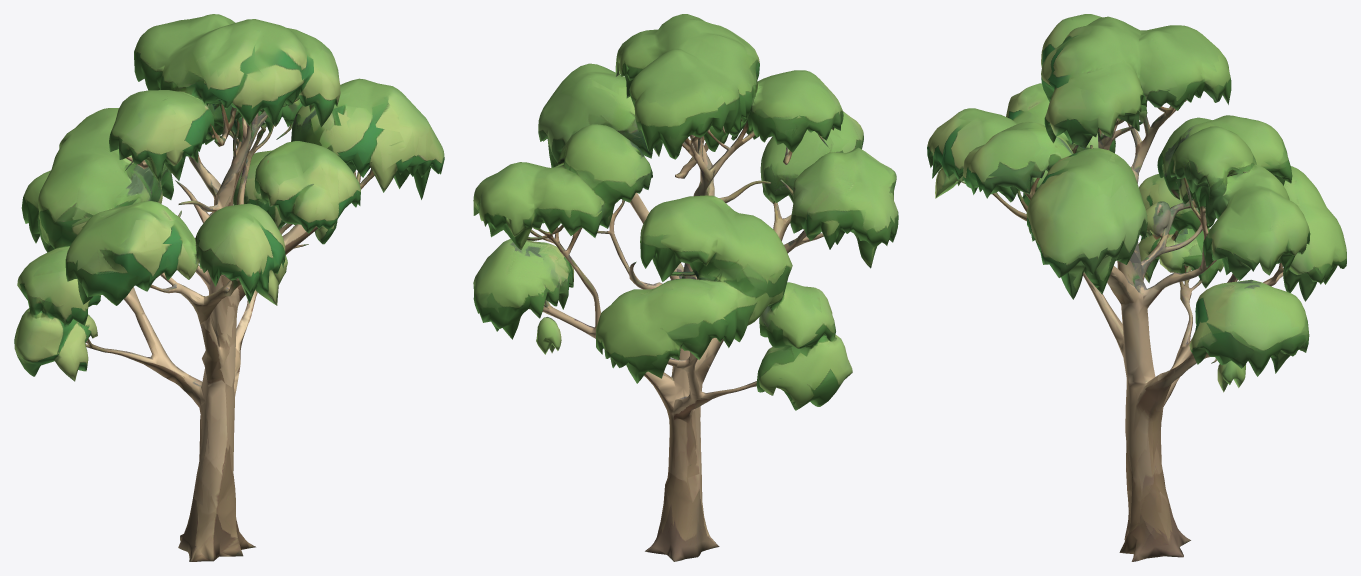
Rendered from Eucalyptus 01.fbx.
3 renders of one model, left to right at view 1: azimuth 30°, elevation 25°; view 2: azimuth 150°, elevation 25°; view 3: azimuth 270°, elevation 25°, orthographic. The views are drawn at different scales.
Visible parts, largest first — view 1: Mesh_0; view 2: Mesh_0; view 3: Mesh_0.
Part boxes in pixels (x1=…): Mesh_0: x1=14, y1=14, x2=444, y2=561; Mesh_0: x1=473, y1=14, x2=898, y2=561; Mesh_0: x1=927, y1=14, x2=1346, y2=561.
Size of the model in its own units: 136 by 190 by 138.
